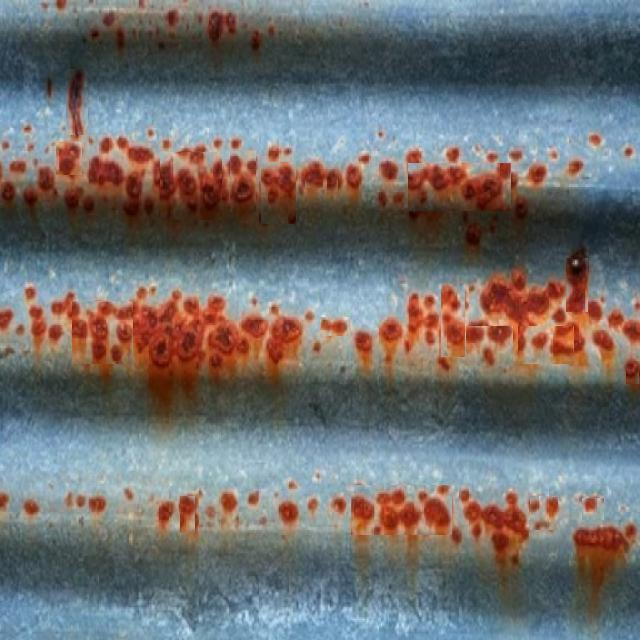Corrosion: (63, 145, 299, 224), (379, 286, 587, 372), (111, 287, 205, 398), (206, 298, 315, 378), (351, 486, 463, 544), (462, 490, 532, 566), (479, 268, 568, 326), (574, 527, 632, 590), (483, 492, 531, 568), (207, 320, 250, 381), (301, 160, 343, 206), (424, 499, 451, 536), (380, 506, 400, 536)
